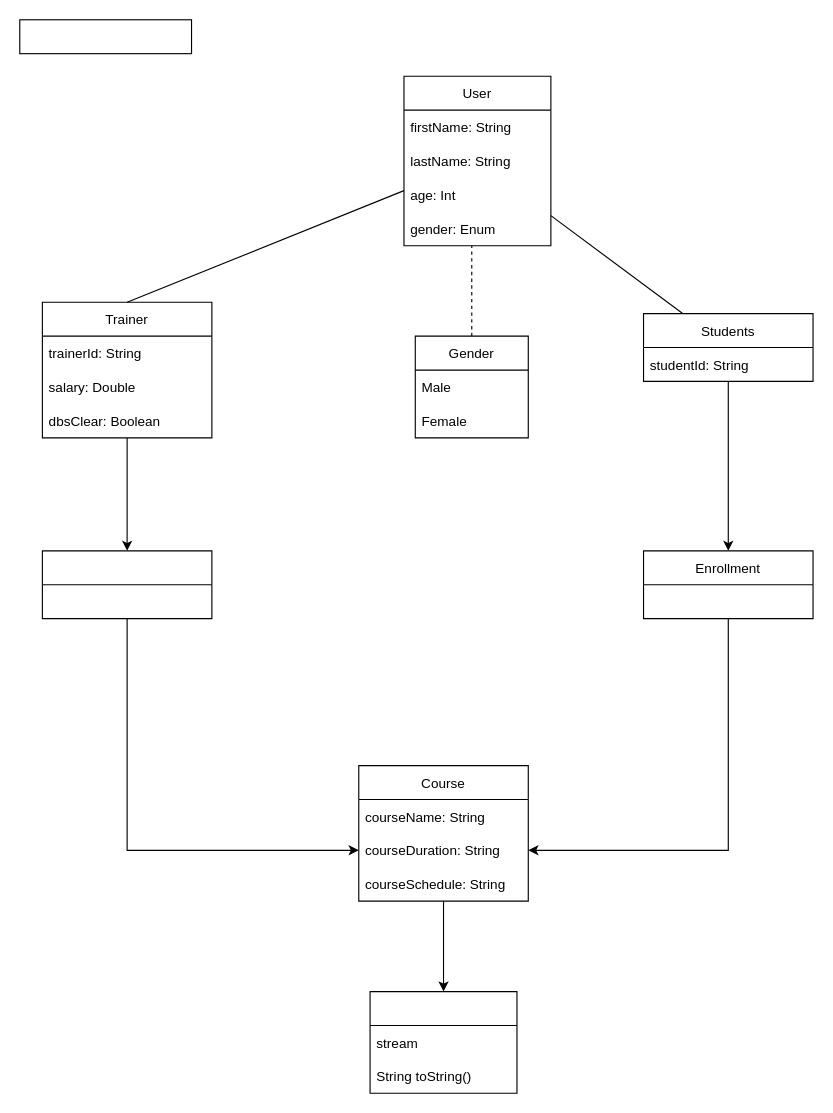
Some shapes in this 833 by 1113 pixel diagram are drawn without their labels. The shapes that lost their labels are listed below. From the top down, each one's box as (x1, y1, x2, y2) in pixels, then its label:
(19, 19, 192, 54): QA Program in Java
(41, 550, 212, 619): Employment
(369, 990, 517, 1093): Steam
